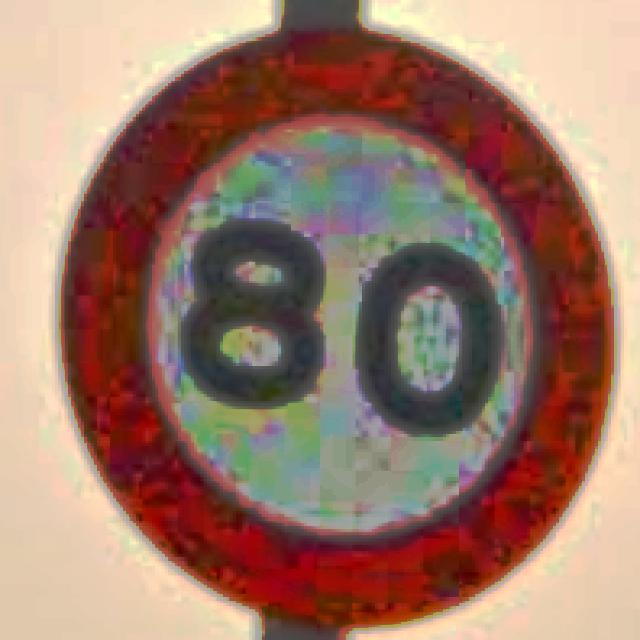max80: (52, 18, 620, 628)
